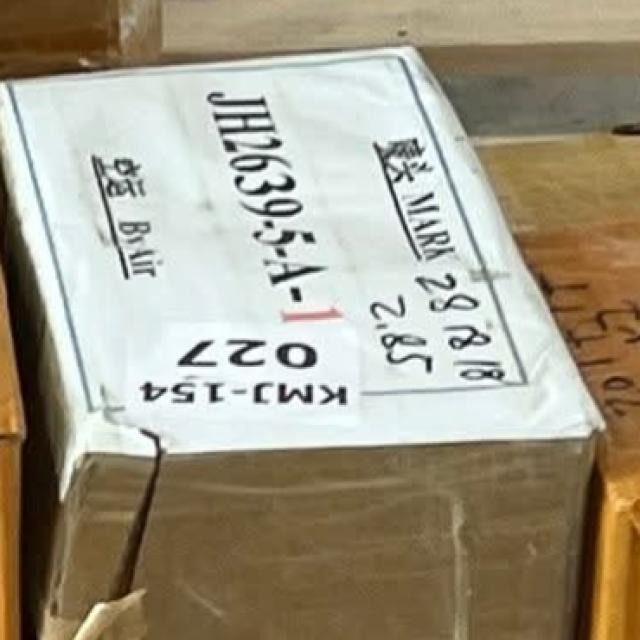carton_box: (0, 39, 595, 640)
export_mark_label: (0, 43, 618, 464)
package_damage: (34, 397, 173, 640)
